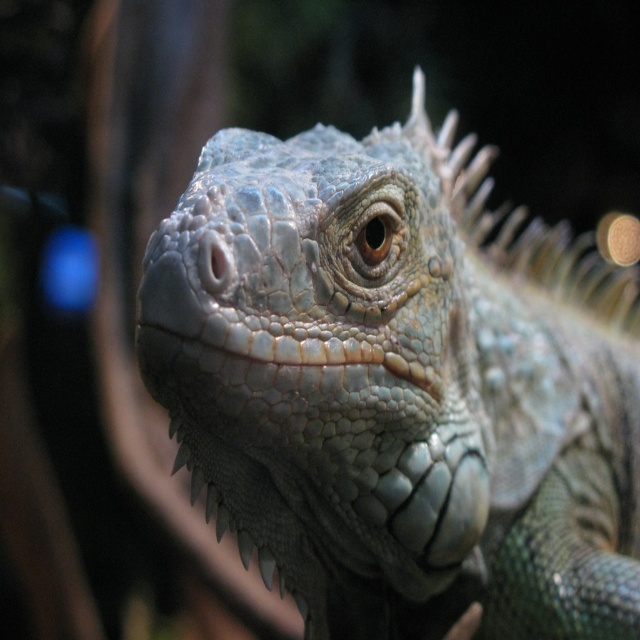Lizard: (134, 67, 639, 637)
